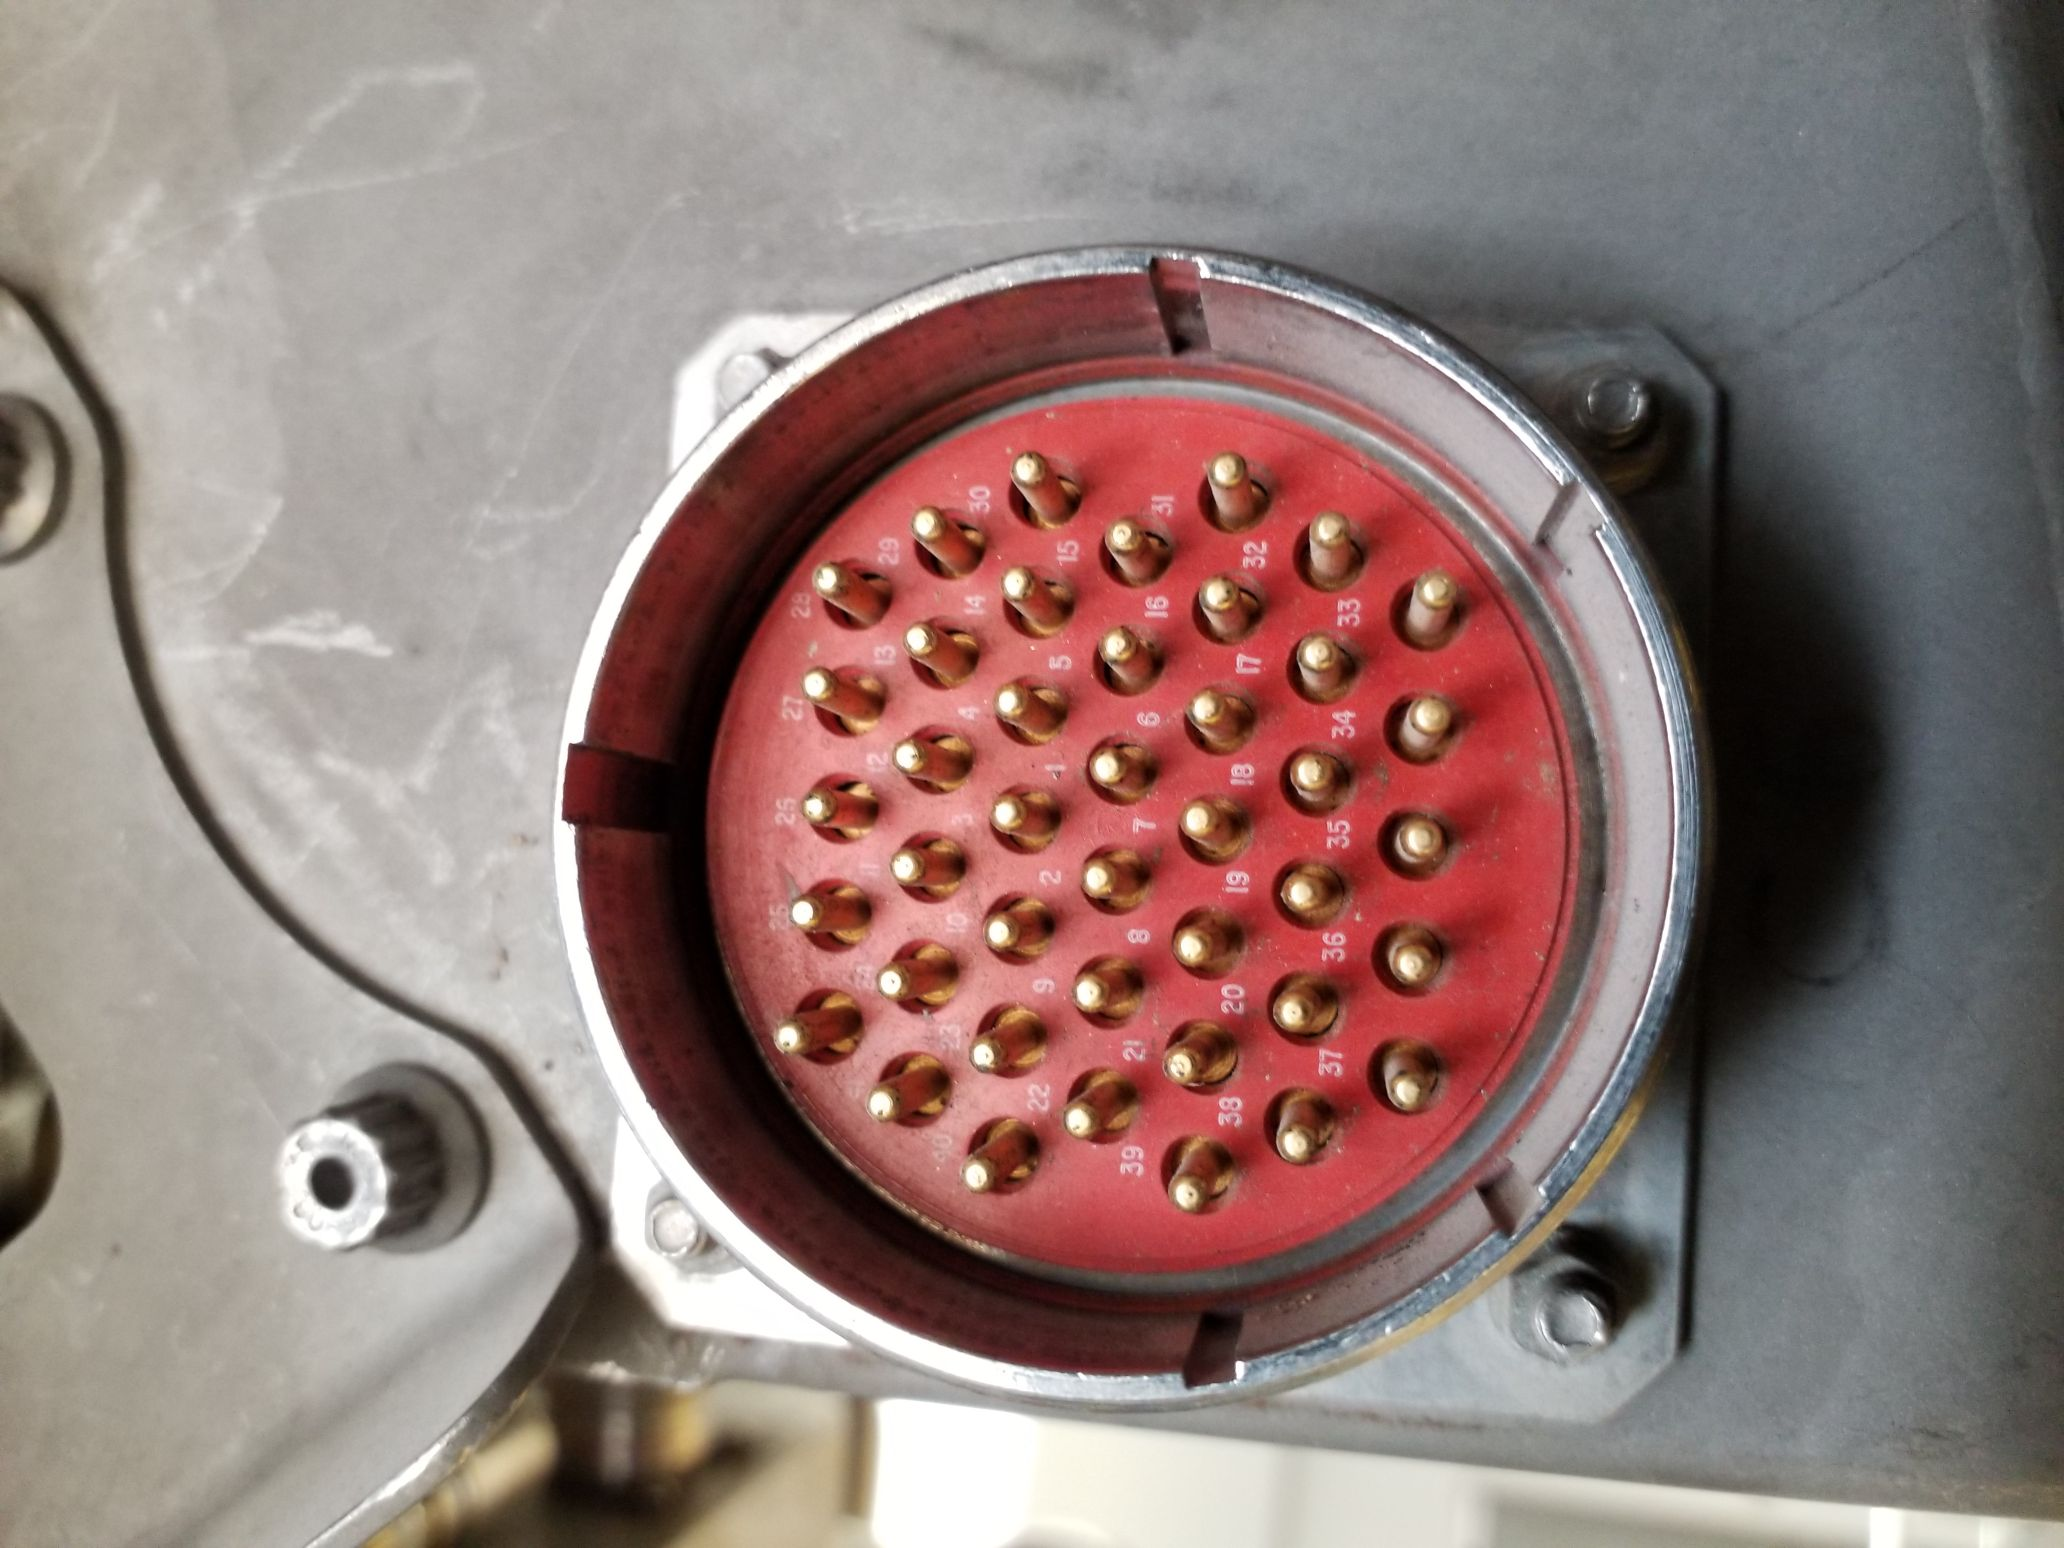outlet: (504, 215, 1724, 1415)
